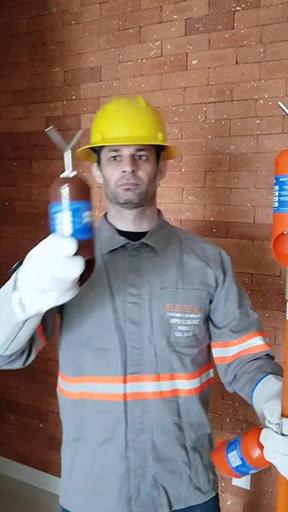Detector_Tensao_Contato: (41, 124, 96, 287)
